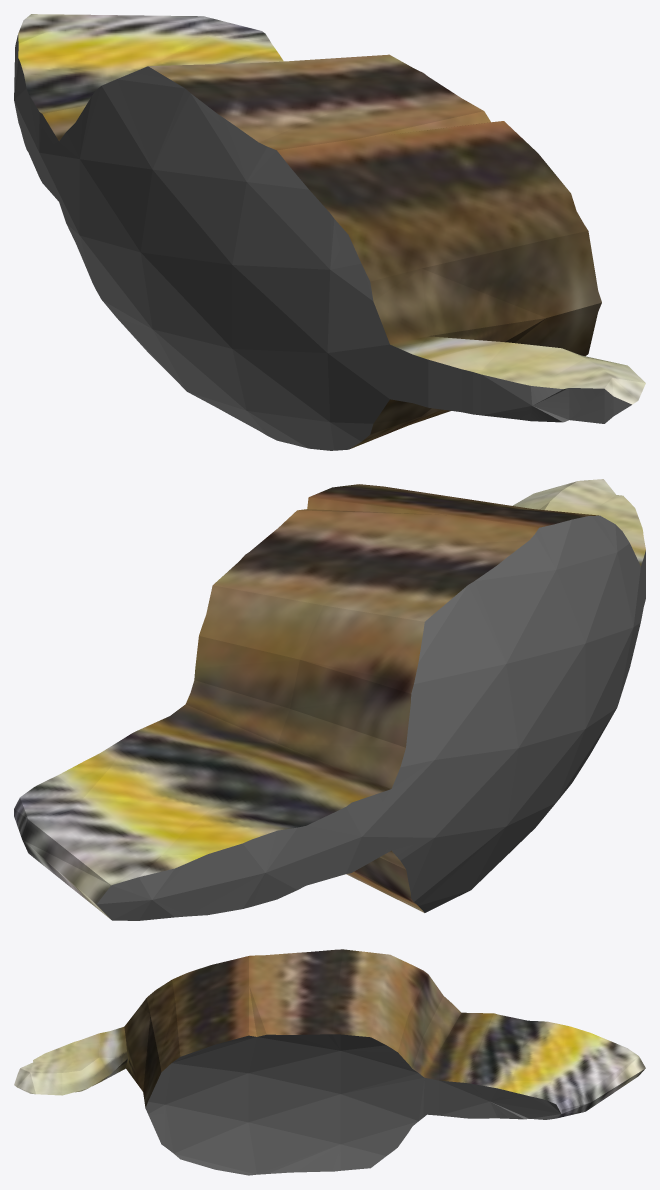
3 views of the same model, one above another, from view 1: azimuth 30°, elevation 25°; view 2: azimuth 150°, elevation 25°; view 3: azimuth 270°, elevation 25° (orthographic). The views are drawn at different scales.
Visible parts, largest first — view 1: link_10_visual; view 2: link_10_visual; view 3: link_10_visual.
Boxes of the visible parts, x1=… form: link_10_visual: x1=14, y1=14, x2=645, y2=450; link_10_visual: x1=14, y1=479, x2=645, y2=920; link_10_visual: x1=14, y1=949, x2=645, y2=1175.
Size of the model in its own units: 0.00126 by 0.00118 by 0.00382.
Materials: 2 (2 with a texture image).
